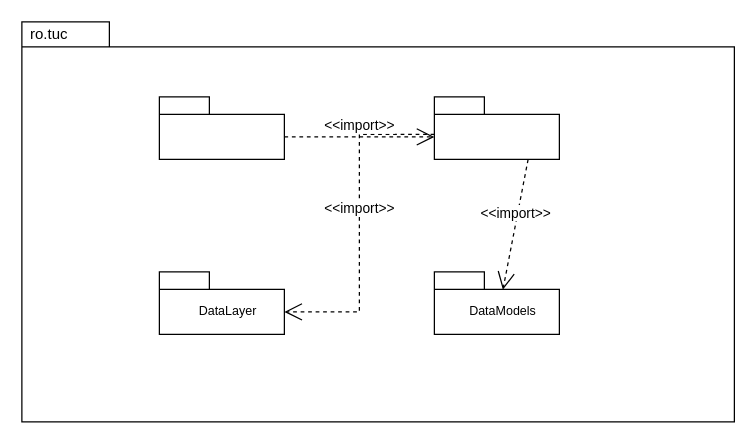
Image size: 756x444. Some labels were removed from this diagram. The box of each missing label's shape, as (x1, y1, x2, y2) in pixels:
BusinessLayer: (433, 96, 559, 159)
GUI: (158, 96, 284, 159)
